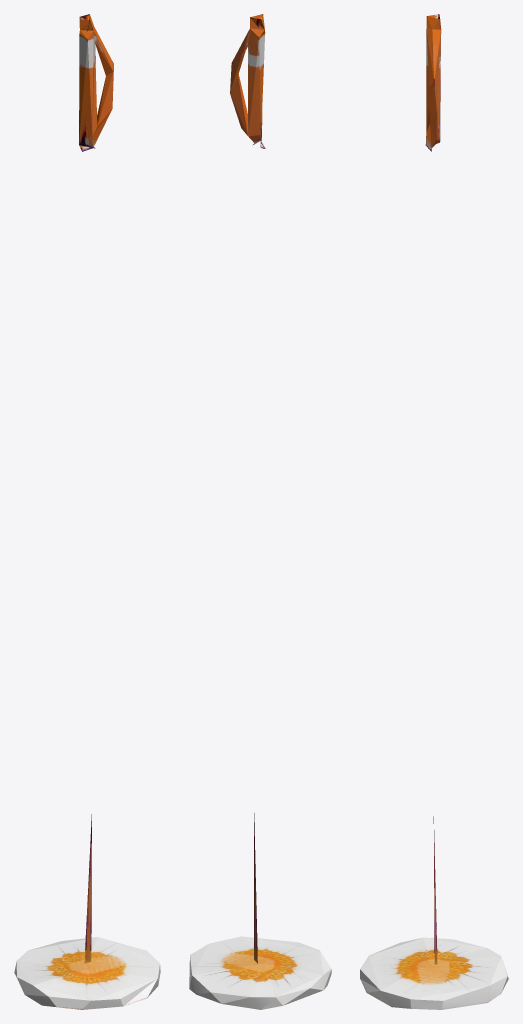
Rendered from flag_pole.glb.
3 views of the same model, side by side, from view 1: azimuth 30°, elevation 25°; view 2: azimuth 150°, elevation 25°; view 3: azimuth 270°, elevation 25° (orthographic).
Bounding box in the file's own units: 0.2647 × 1.9 × 0.2647.
1 material, 1 textured.
